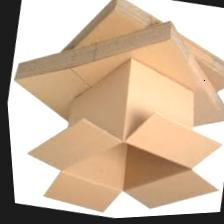cardboard: (29, 54, 224, 223), (2, 20, 224, 160), (57, 0, 224, 146)
